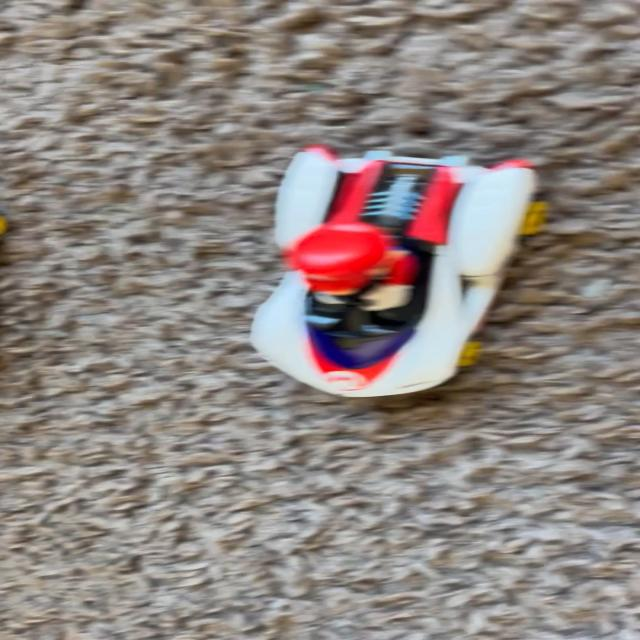mario: (235, 136, 574, 406)
